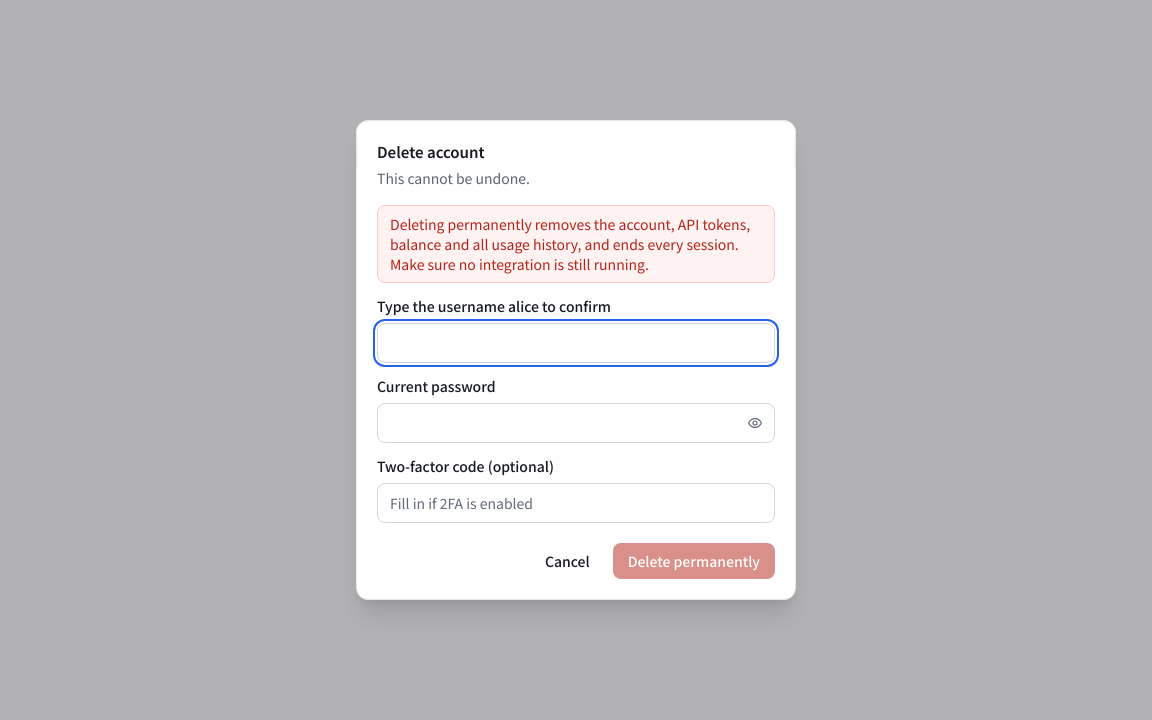
it: AccountDeleteDialog › keeps confirm disabled until the username matches and a password is typed
Expected: the button "Delete permanently" is disabled, 613,543 -> 775,579
Type "alic" into the field labelled "Type the username alice to confirm" at (576, 343), box 377,323 -> 775,363
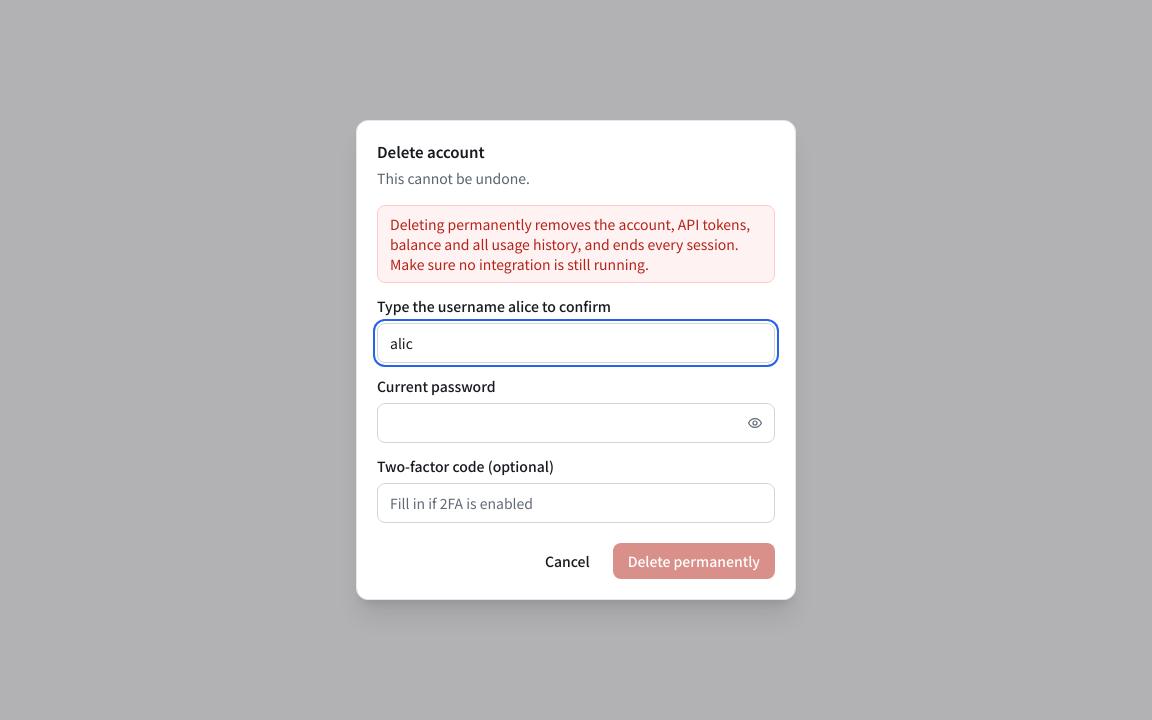
Expected: the button "Delete permanently" is disabled, 613,543 -> 775,579
Type "e" into the field labelled "Type the username alice to confirm" at (576, 343), box 377,323 -> 775,363
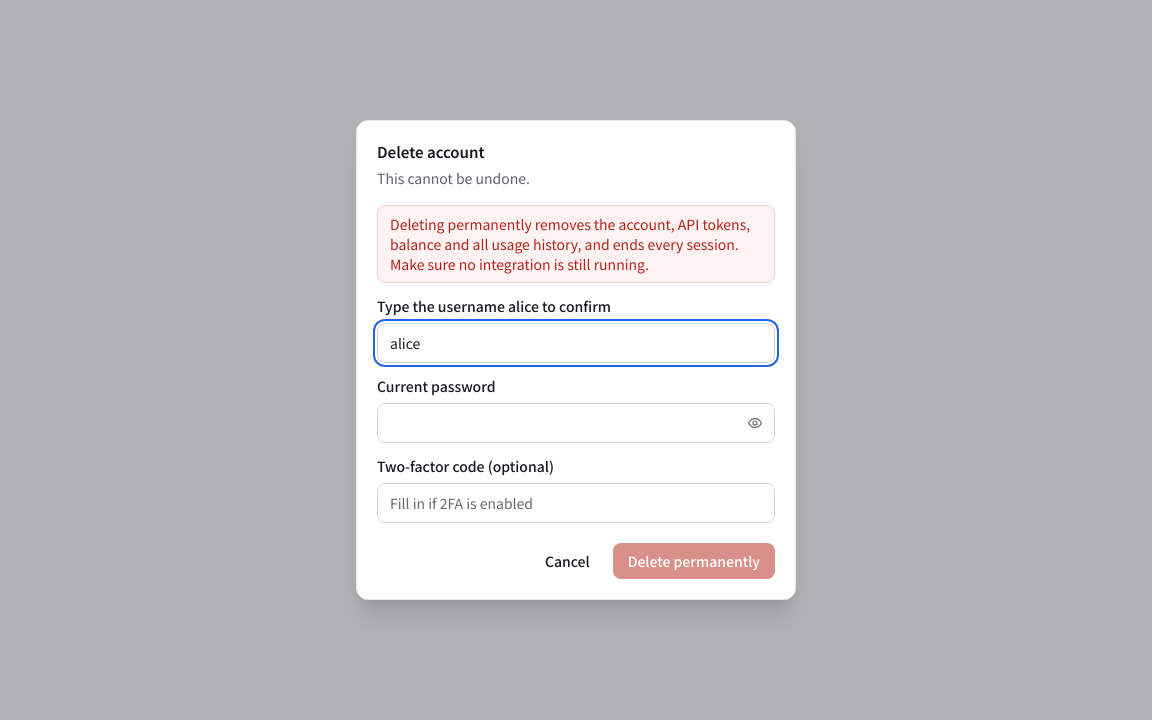
Expected: the button "Delete permanently" is disabled, 613,543 -> 775,579
Type "secret-pass" into the password field labelled "Current password" at (576, 423), box 377,403 -> 775,443
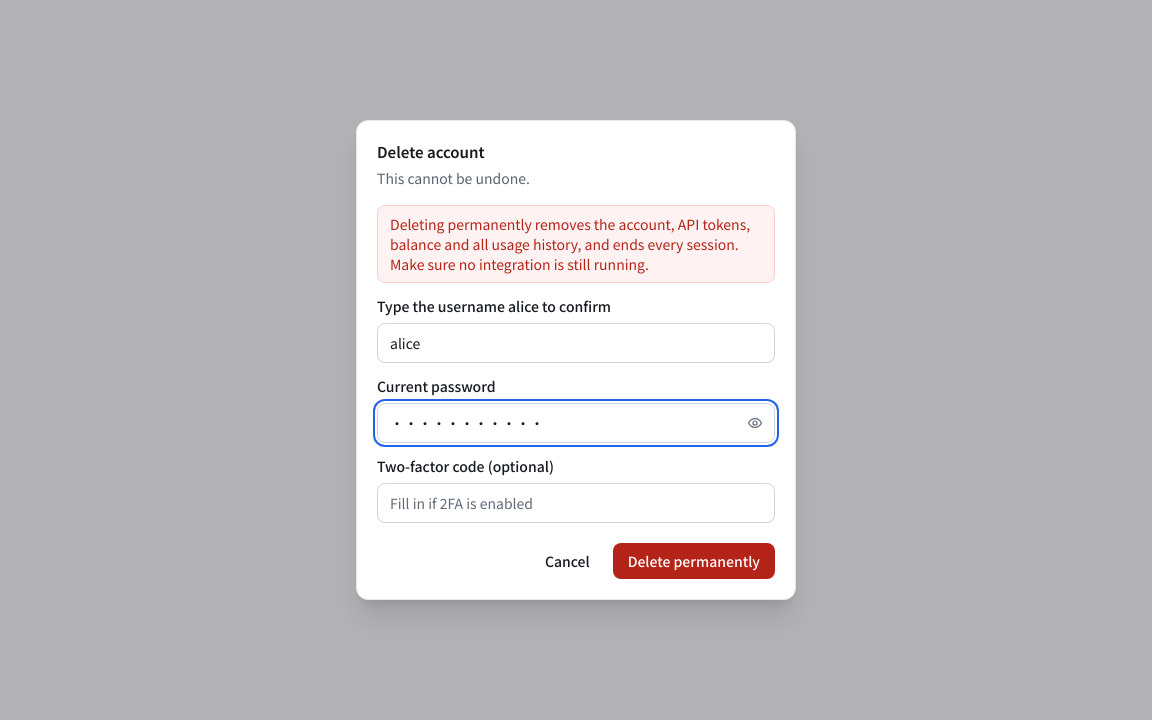
Result: the button "Delete permanently" is enabled at 613,543 -> 775,579
